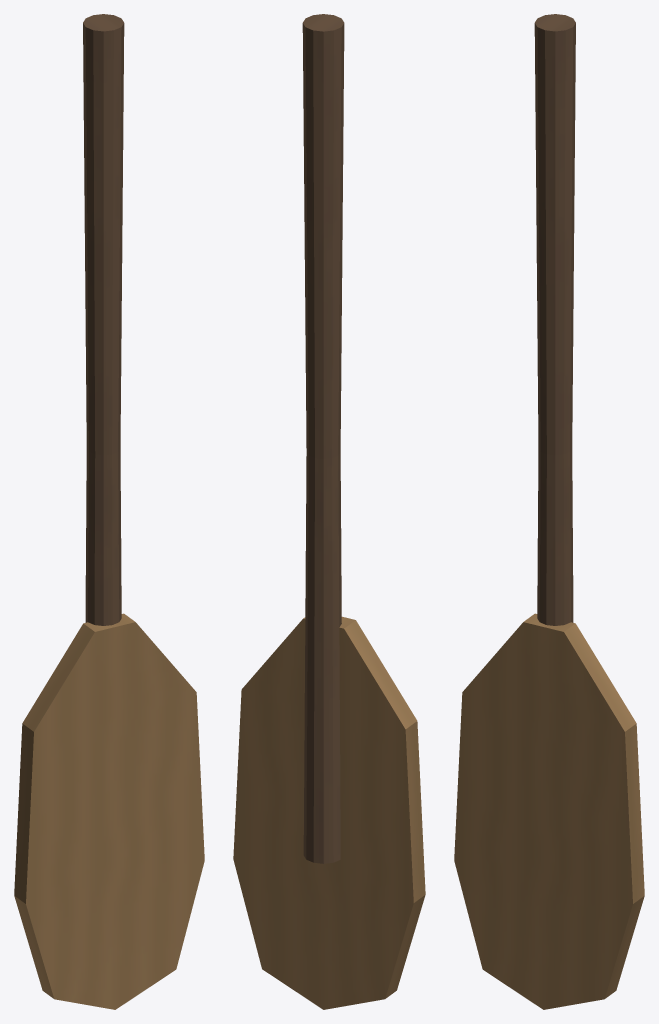
Rendered from PR_Paddle.glb.
The picture shows the model from 3 angles, left to right: view 1: azimuth 30°, elevation 25°; view 2: azimuth 150°, elevation 25°; view 3: azimuth 330°, elevation 25°; orthographic projection.
Visible parts, largest first — view 1: PR_Paddle; view 2: PR_Paddle; view 3: PR_Paddle.
Boxes of the visible parts, <box> form: PR_Paddle: <box>14,14,204,1009</box>; PR_Paddle: <box>233,14,425,1009</box>; PR_Paddle: <box>454,14,644,1009</box>.
Bounding box in the file's own units: 0.22 × 1.15 × 0.047.
2 materials, 2 textured.
